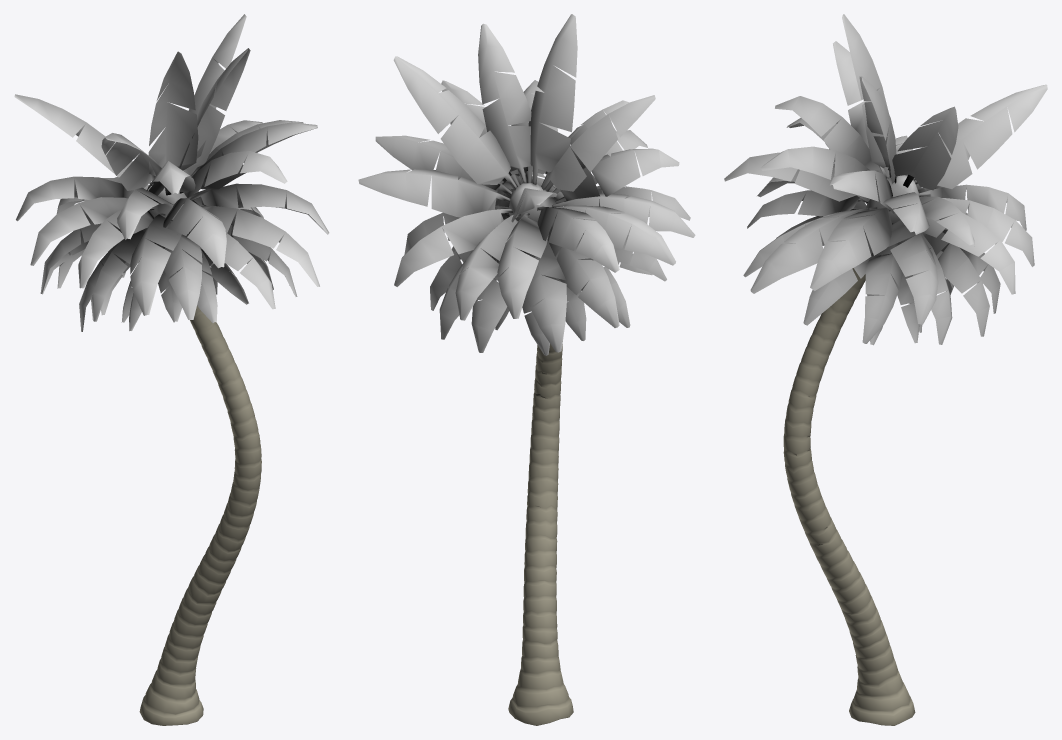
Rendered from ballpit_palmtree_a.fbx.
3 renders of one model, left to right at view 1: azimuth 30°, elevation 25°; view 2: azimuth 150°, elevation 25°; view 3: azimuth 270°, elevation 25°, orthographic. The views are drawn at different scales.
Visible parts, largest first — view 1: Palm Tree A; view 2: Palm Tree A; view 3: Palm Tree A.
Boxes of the visible parts, x1,y1,x2,y2 form: Palm Tree A: [14, 14, 329, 725]; Palm Tree A: [358, 14, 695, 725]; Palm Tree A: [724, 14, 1047, 725].
Bounding box in the file's own units: 9.05 × 20.64 × 8.72.
